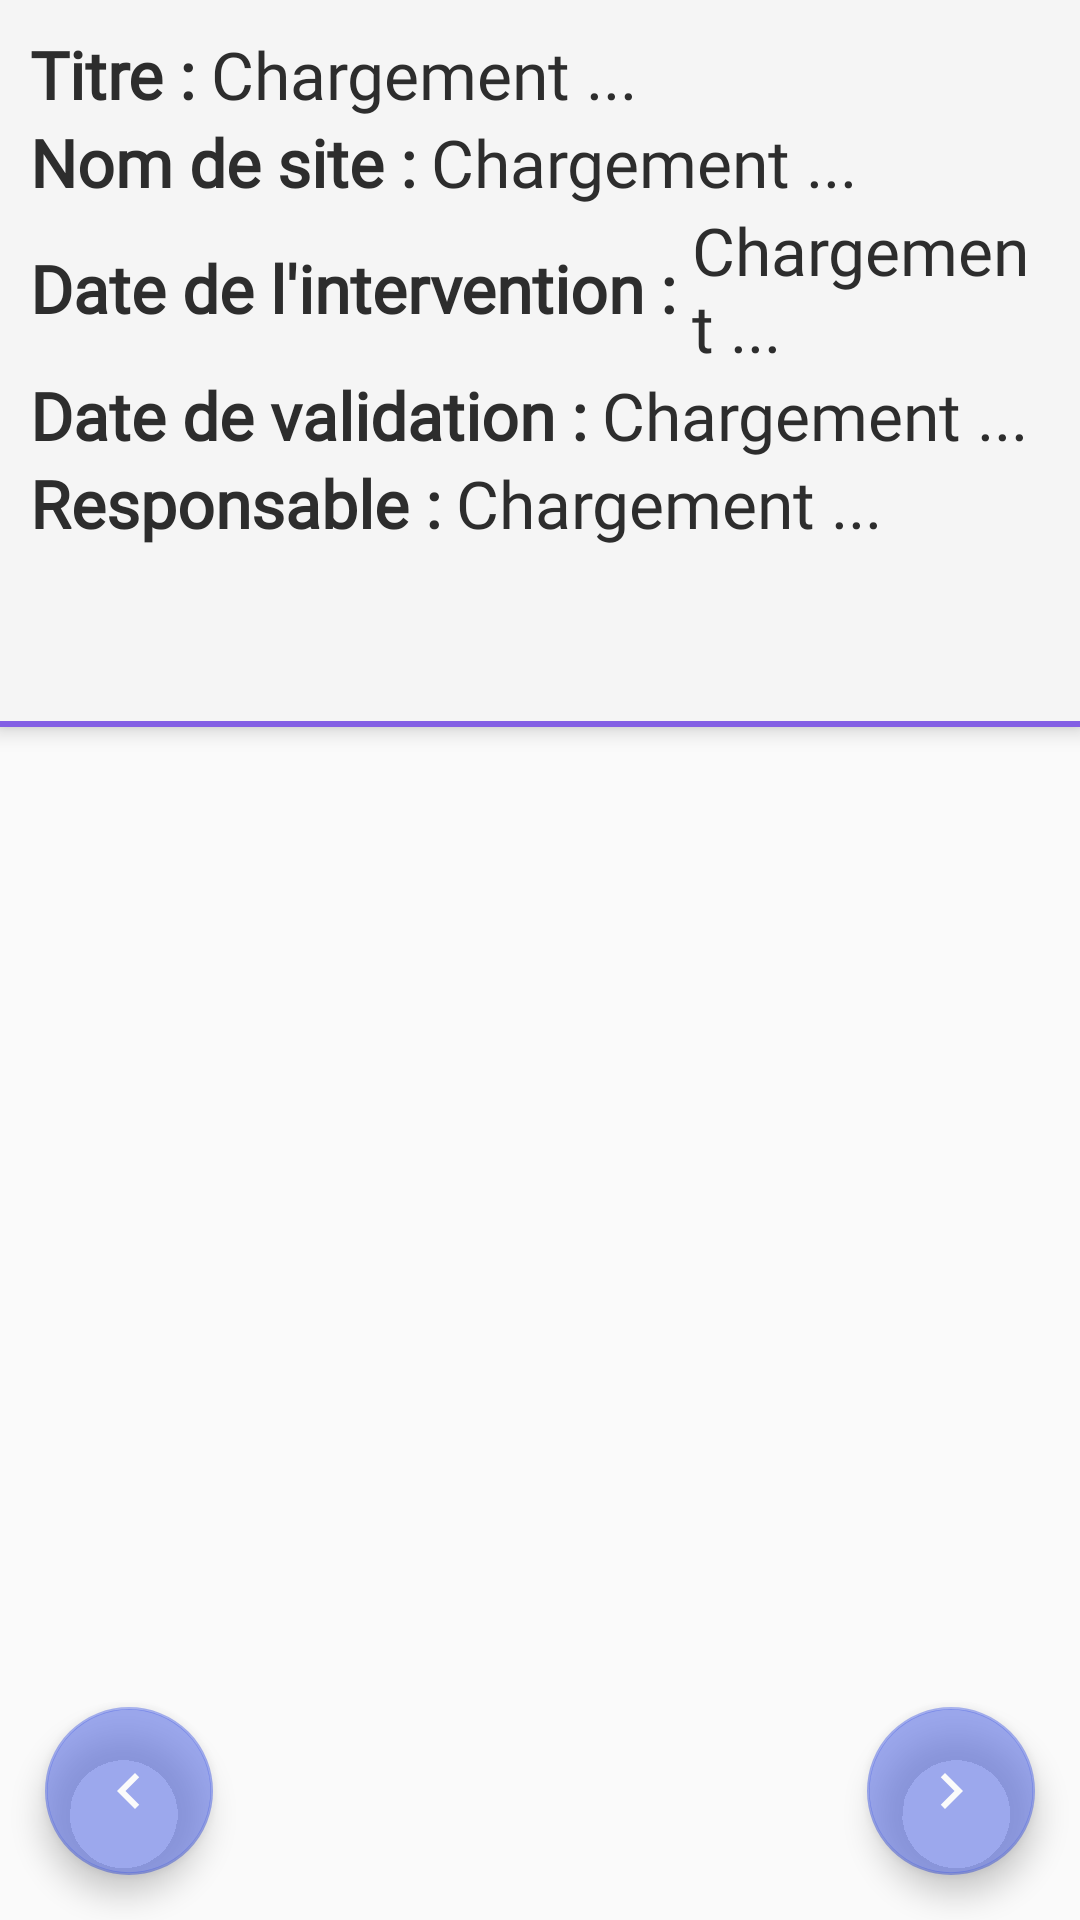

Where to tap for icons on this 1080px x 1920px app screen, as point (x, y):
next arrow: point (951, 1791)
previous arrow: point (129, 1791)
